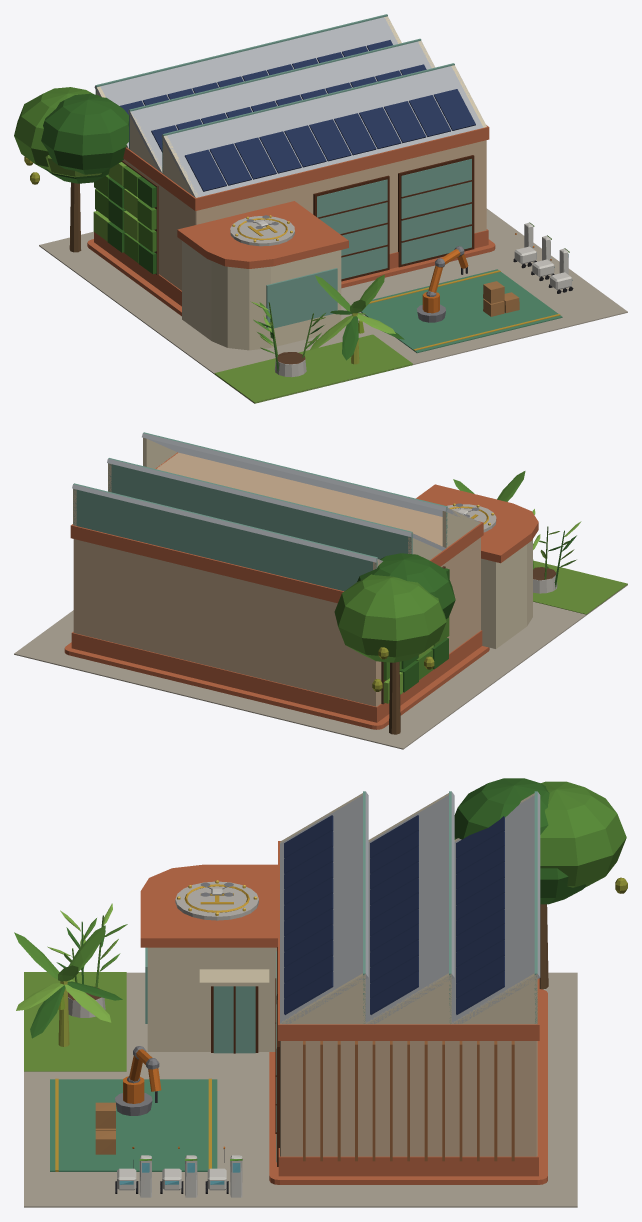
The model's file is factory_1.glb.
3 renders of one model, top to bottom at view 1: azimuth 30°, elevation 25°; view 2: azimuth 150°, elevation 25°; view 3: azimuth 270°, elevation 25°, orthographic. The views are drawn at different scales.
Visible parts, largest first — view 1: body; view 2: body; view 3: body, windows.
Part boxes in pixels (x1,y1,x2,y2): body: (14,14,627,403); body: (14,432,627,749); body: (14,778,627,1207); windows: (119,880,257,1184).
Size of the model in its own units: 16.95 by 6.63 by 17.63.
